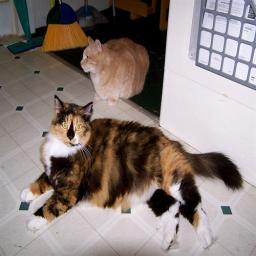catnose: (67, 133, 74, 142), (79, 60, 84, 67)
